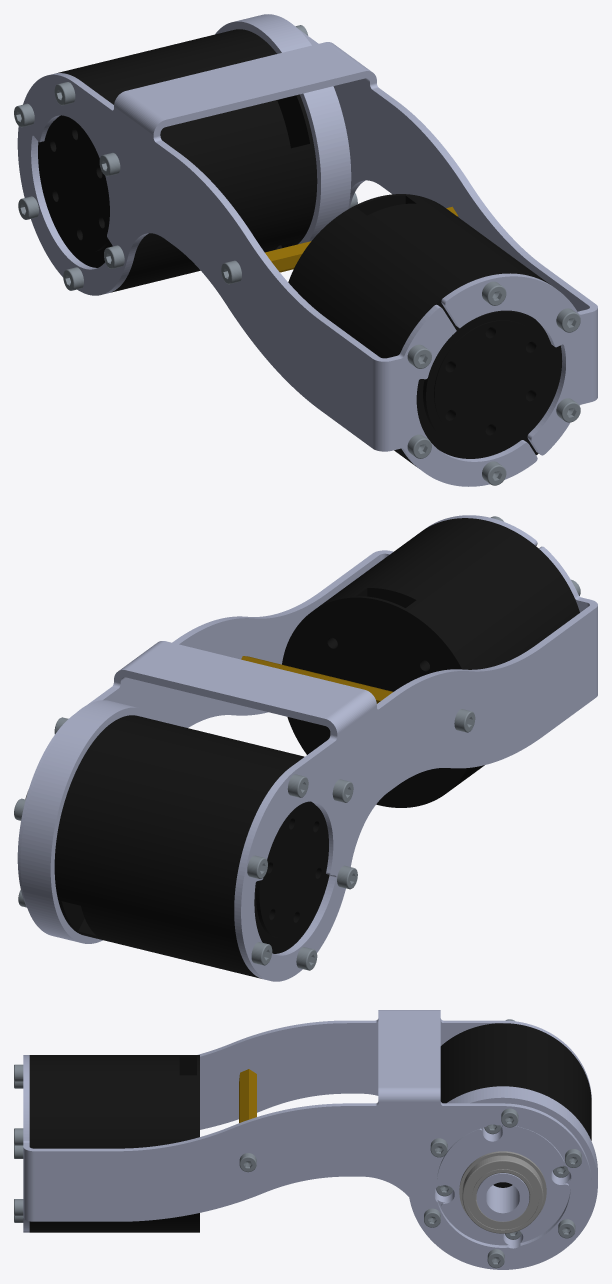
File: right_arm_l3.glb
The picture shows the model from 3 angles, top to bottom: view 1: azimuth 30°, elevation 25°; view 2: azimuth 150°, elevation 25°; view 3: azimuth 270°, elevation 25°; orthographic projection. The views are drawn at different scales.
Visible parts, largest first — view 1: world; view 2: world; view 3: world.
Part boxes in pixels (left/top/right/bottom): world: left=14, top=14, right=597, bottom=486; world: left=14, top=515, right=597, bottom=981; world: left=14, top=1010, right=597, bottom=1269.
Bounding box in the file's own units: 76.5 × 64 × 187.
